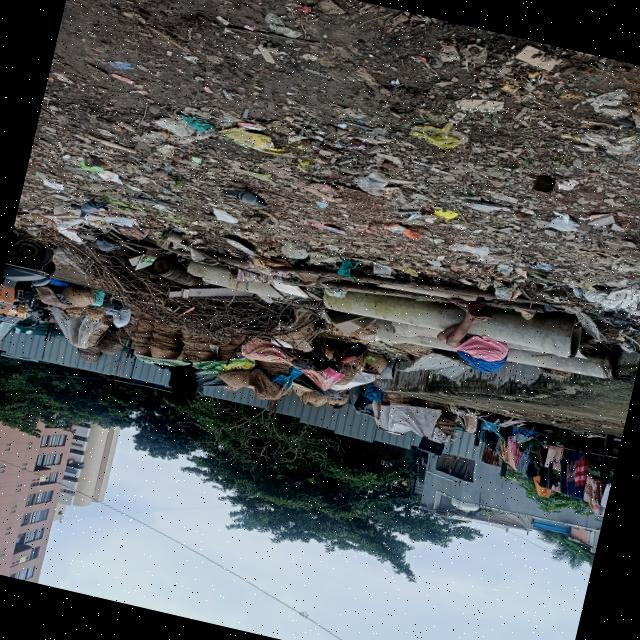garbage: (46, 190, 331, 353), (562, 210, 640, 324)
